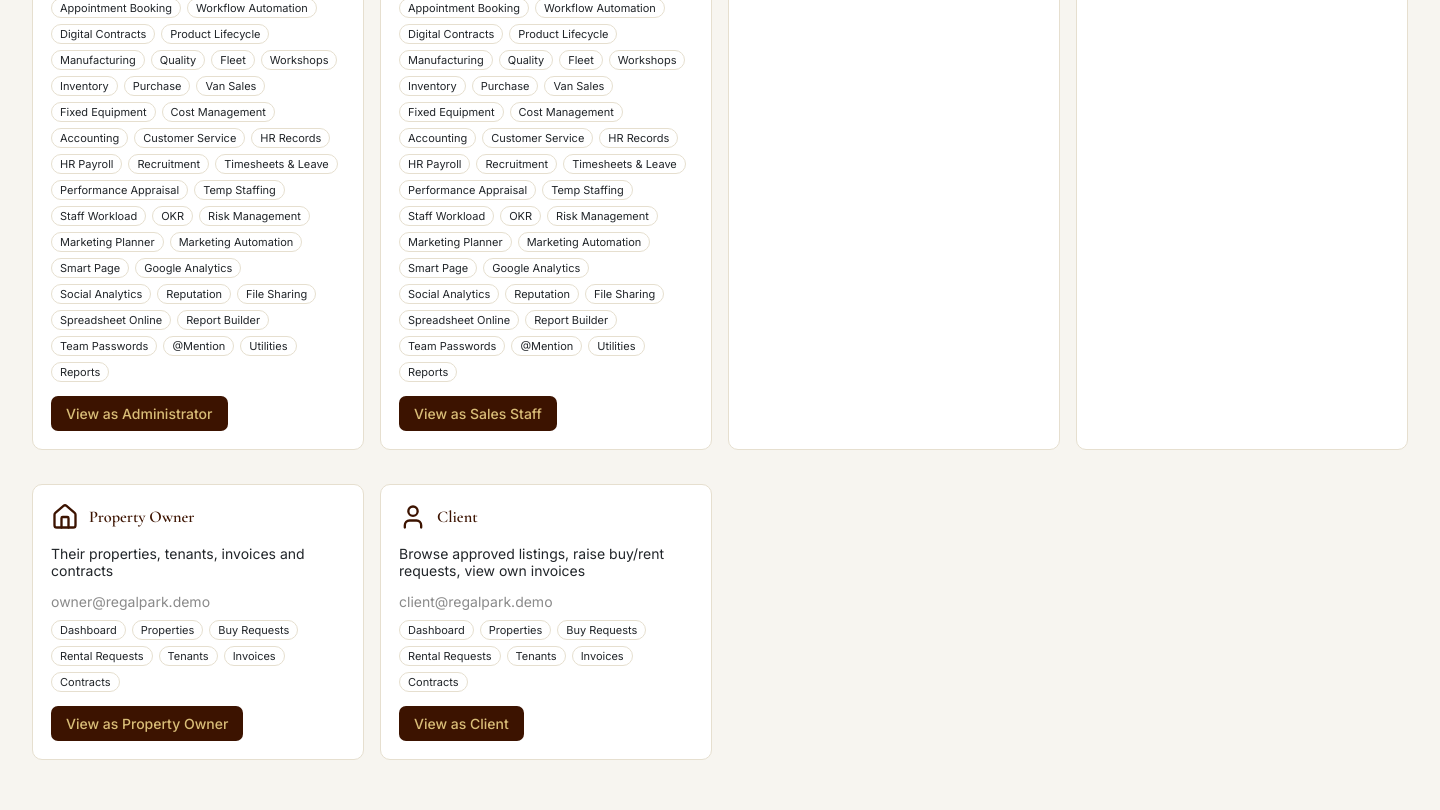
Test case: /roles logged out (standalone public page) › "View as Owner" while logged out logs in directly (no /auth/logout) and lands on "/"
This screenshot has width=1440, height=810.
(page scrolled)
Click the button "View as Property Owner" at (147, 724), box [51,706,243,741]
(page scrolled)
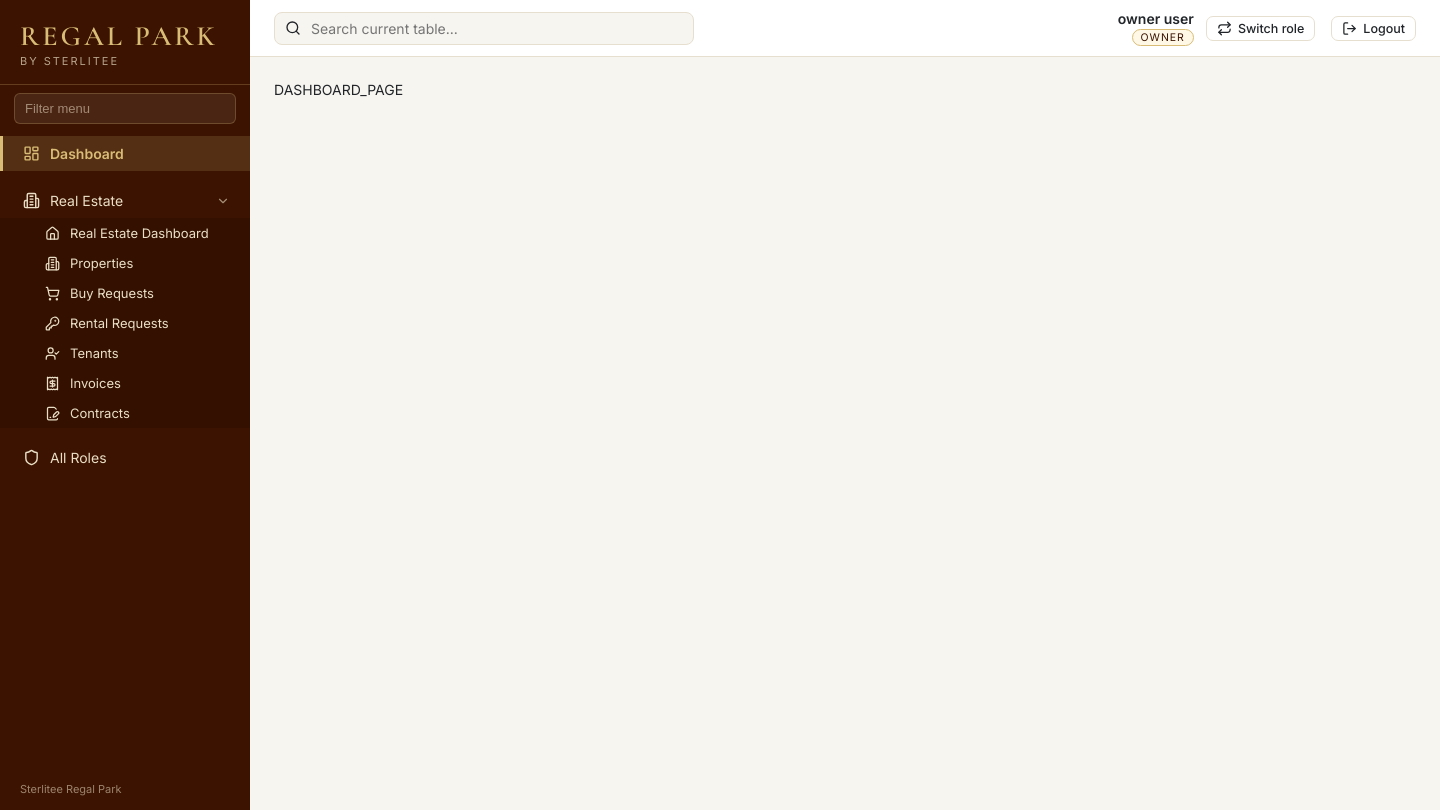
Expected: the button "Logout" is shown, [1331,16,1416,40]
Expected: the text "DASHBOARD_PAGE" is shown, [274,81,403,98]
